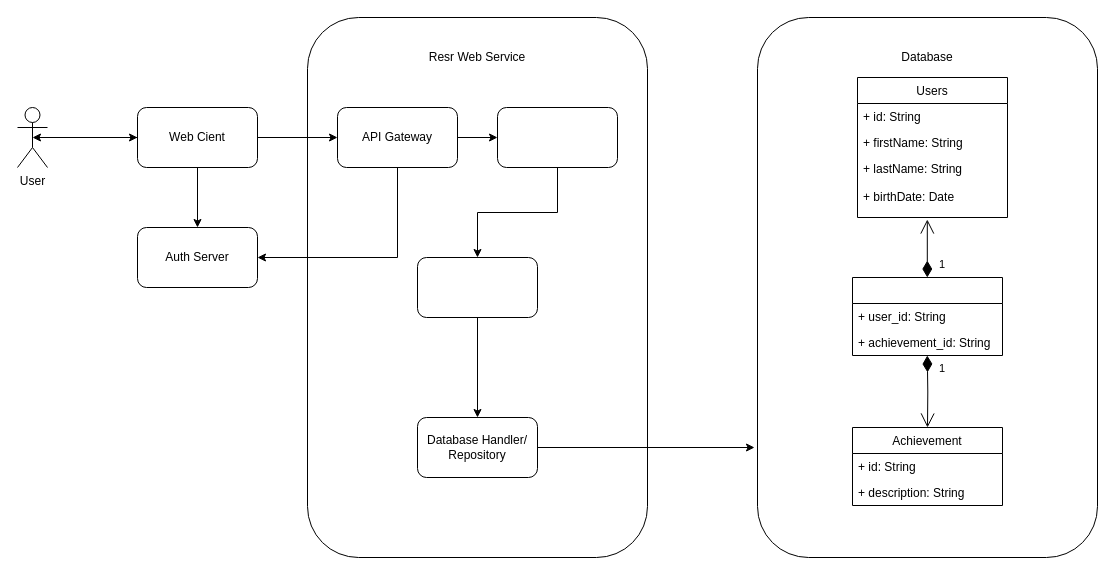
Some shapes in this 1115 by 575 pixel diagram are drawn without their labels. The shapes that lost their labels are listed below. From the top down, each one's box as (x1, y1, x2, y2) in pixels, then its label:
(496, 106, 618, 168): Controller
(416, 256, 538, 318): Service
(852, 276, 1002, 356): User_Achevement
